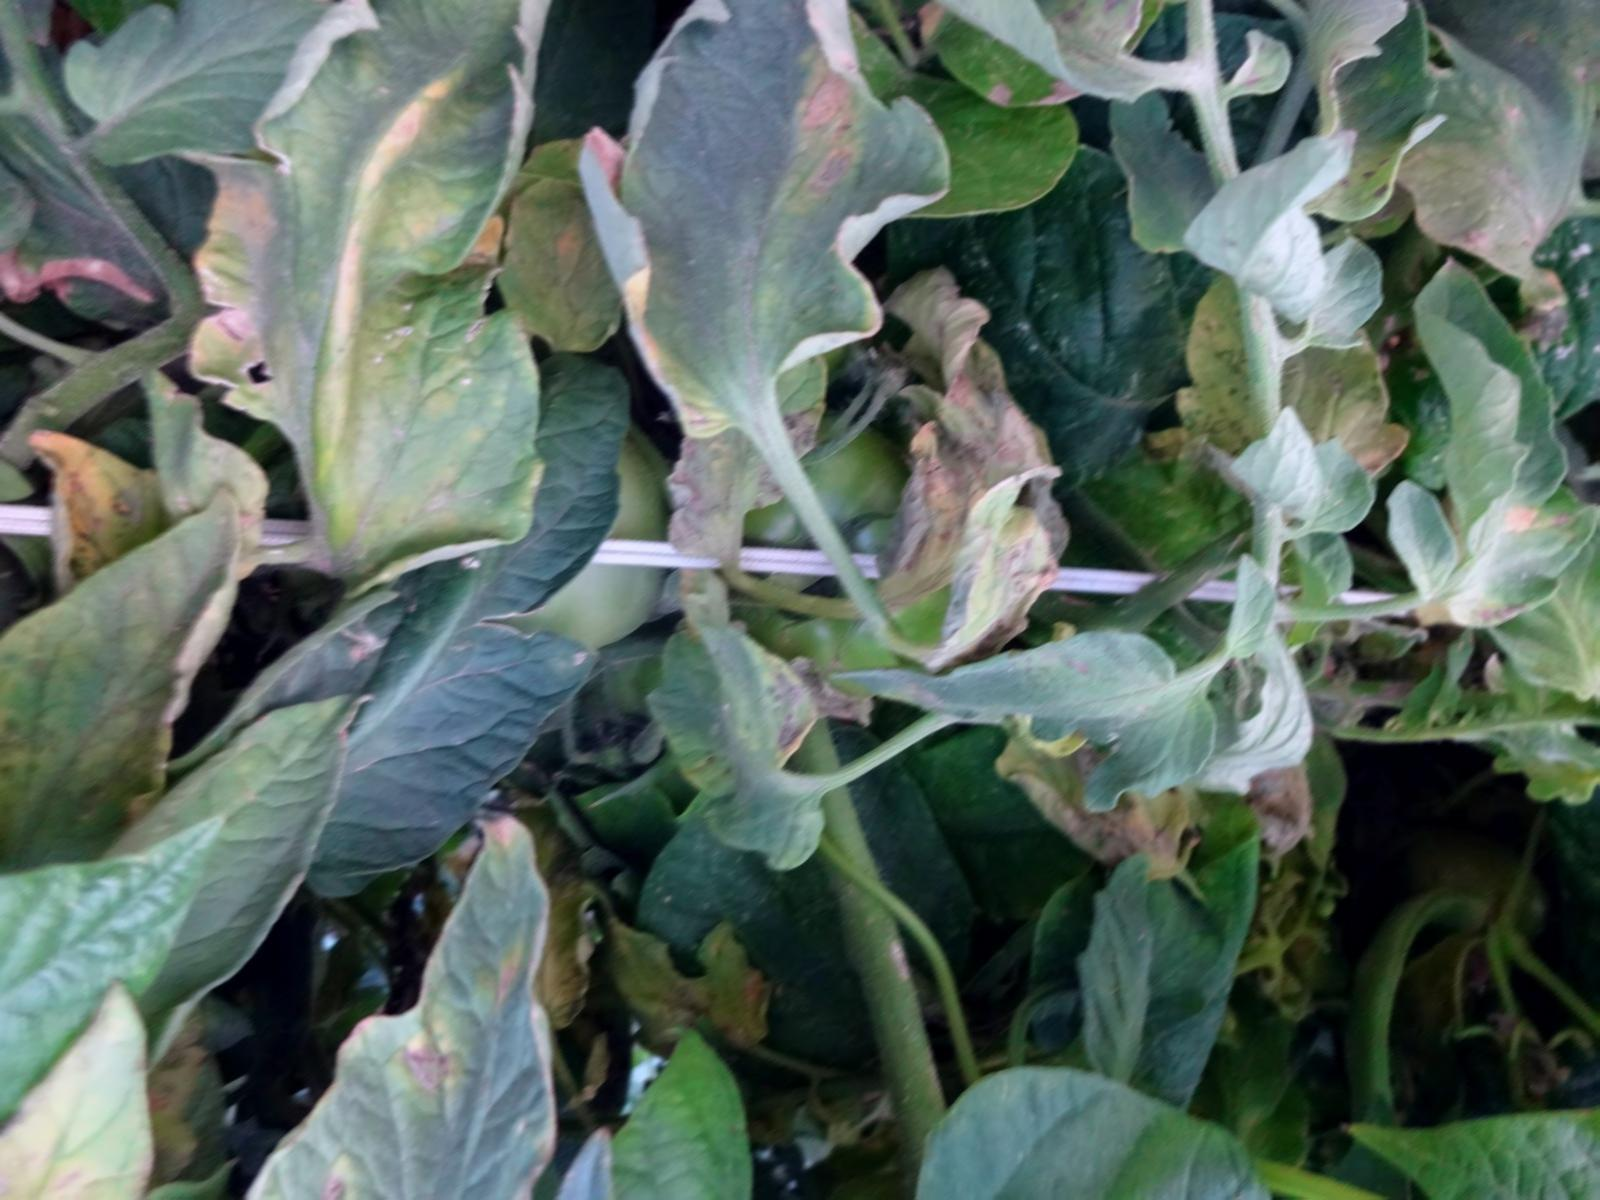Tomato leaf late blight: (588, 0, 944, 489), (199, 795, 610, 1197), (1382, 229, 1600, 654), (831, 634, 1232, 824), (641, 589, 844, 884)
